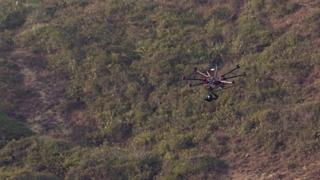UAV: (182, 64, 247, 102)
